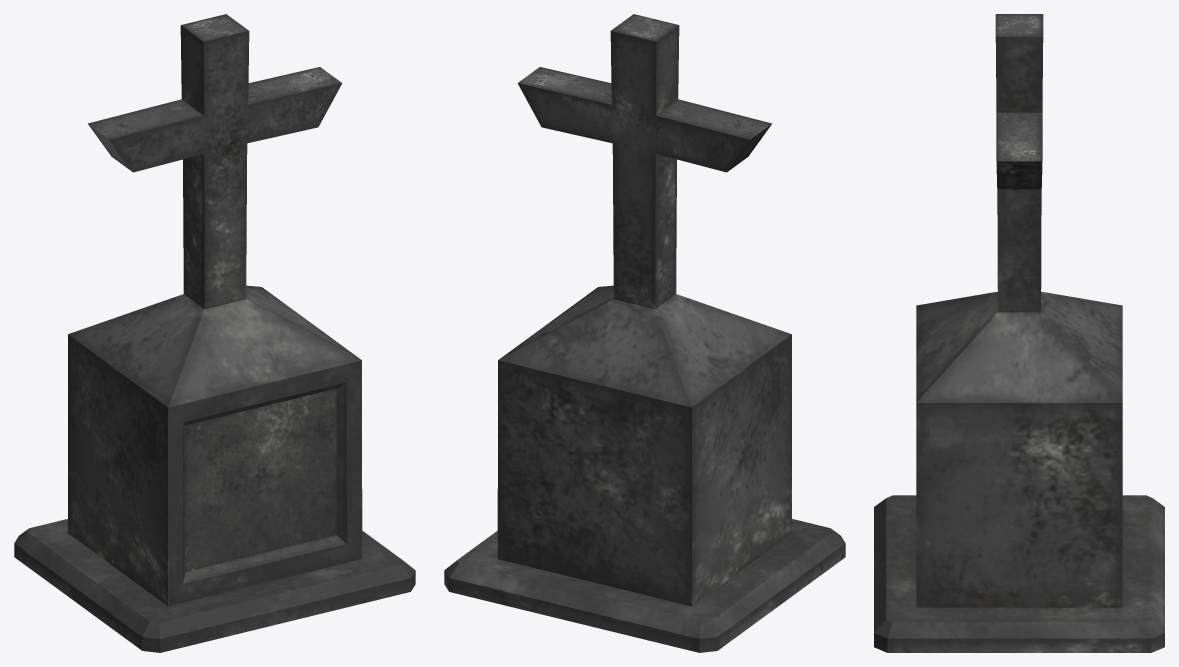
File: tombs_04.fbx
The picture shows the model from 3 angles, left to right: view 1: azimuth 30°, elevation 25°; view 2: azimuth 150°, elevation 25°; view 3: azimuth 270°, elevation 25°; orthographic projection. The views are drawn at different scales.
Visible parts, largest first — view 1: tombs_04; view 2: tombs_04; view 3: tombs_04.
Part boxes in pixels (x1,y1,x2,y2): tombs_04: (14, 14, 415, 652); tombs_04: (444, 14, 845, 652); tombs_04: (874, 14, 1164, 652).
Size of the model in its own units: 0.2131 by 0.4044 by 0.1908.
1 material, 1 textured.
